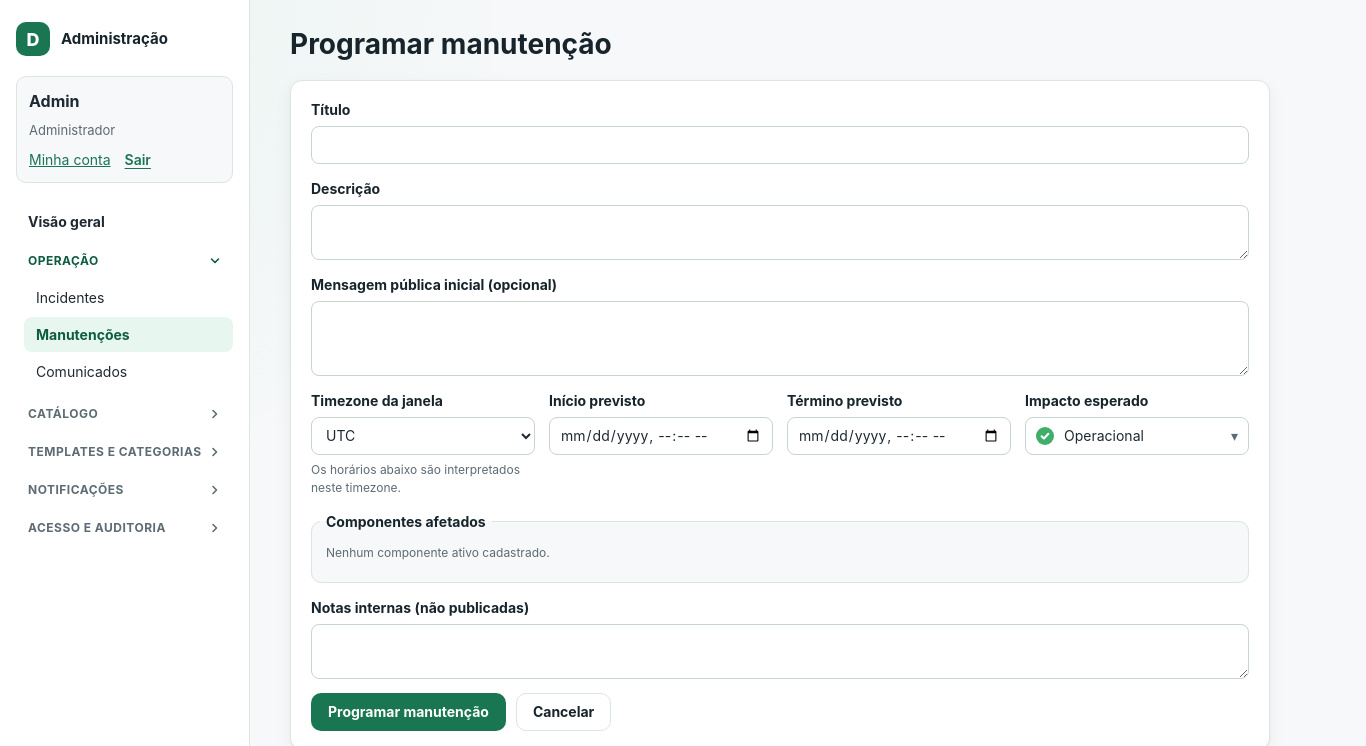
Test: admin area › schedules a maintenance sending local time plus an explicit timezone
This screenshot has width=1366, height=746.
In the field labelled "Título": (780, 145) [311,126,1249,164], type "Atualização do banco"
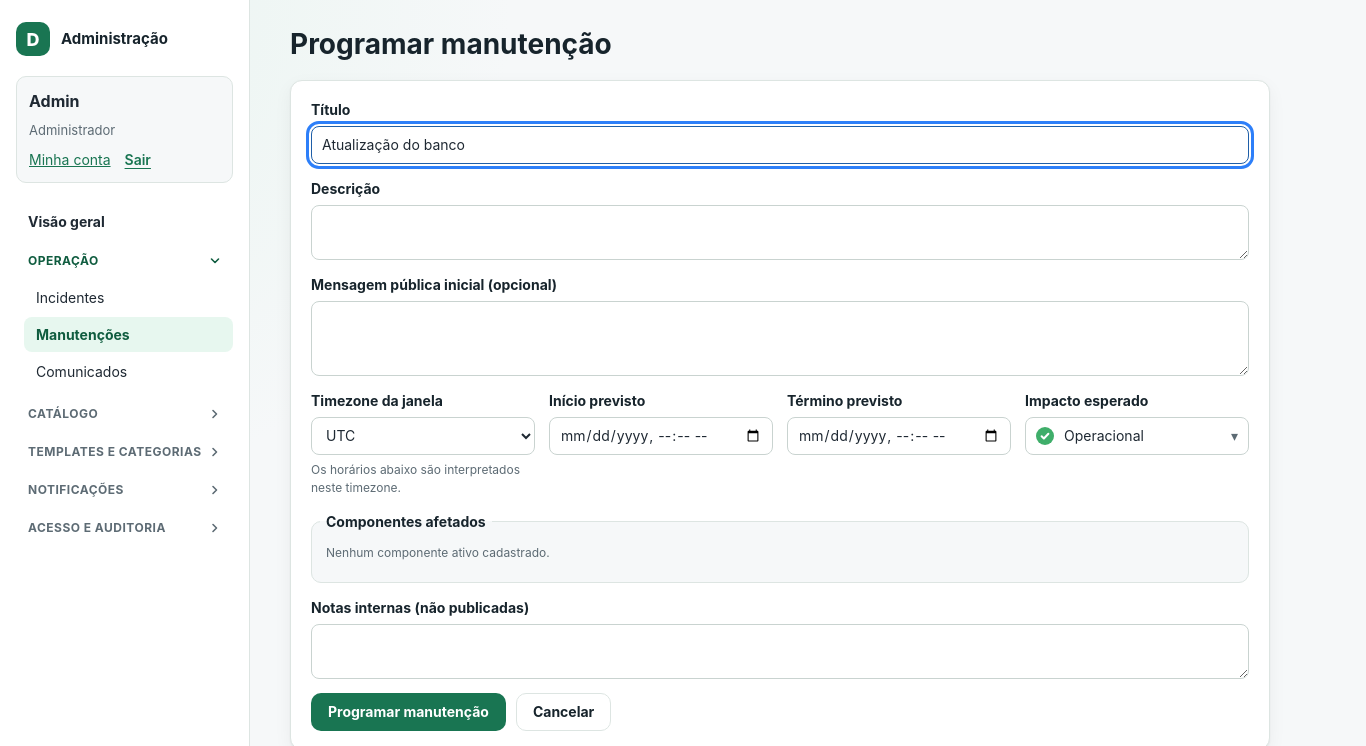
Select "America/Sao_Paulo" in the dropdown labelled "Timezone da janela": (423, 436) [311,417,535,455]
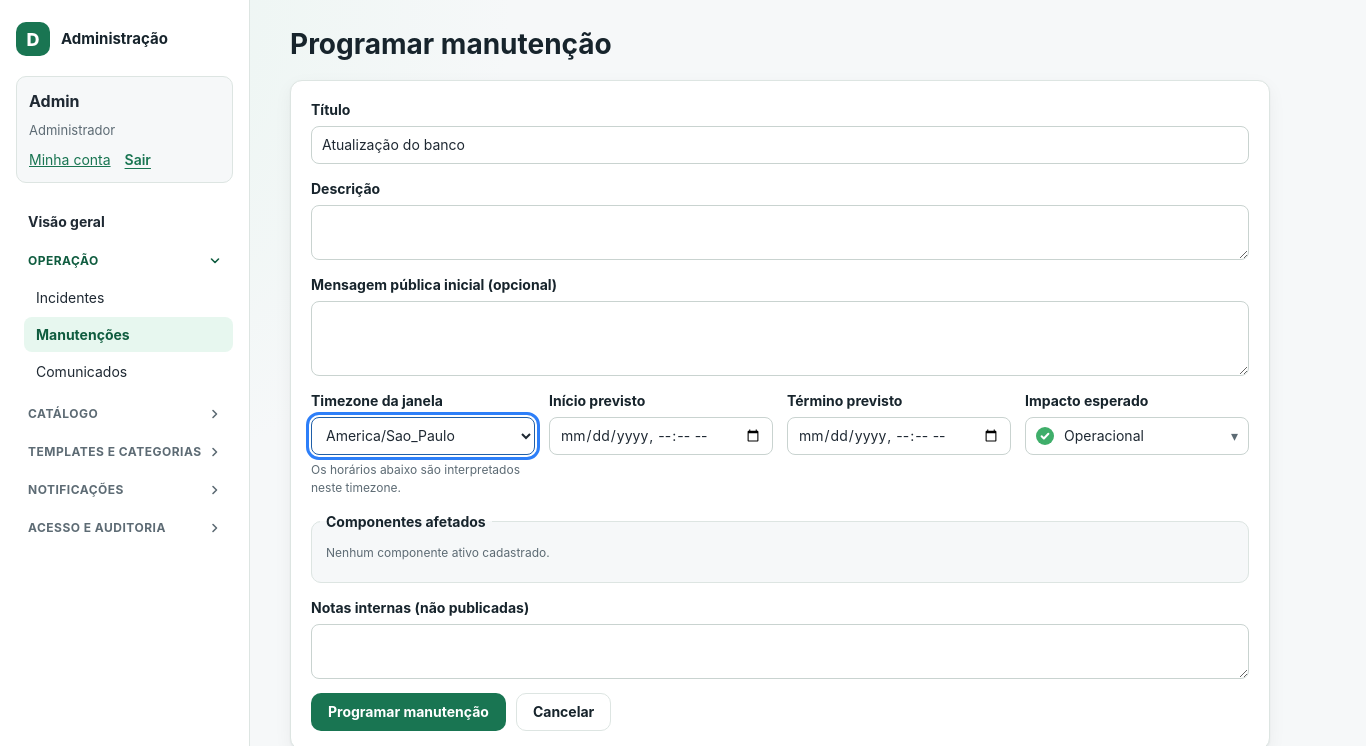
In the field labelled "Início previsto": (661, 436) [549,417,773,455], type "2030-01-10T02:00"
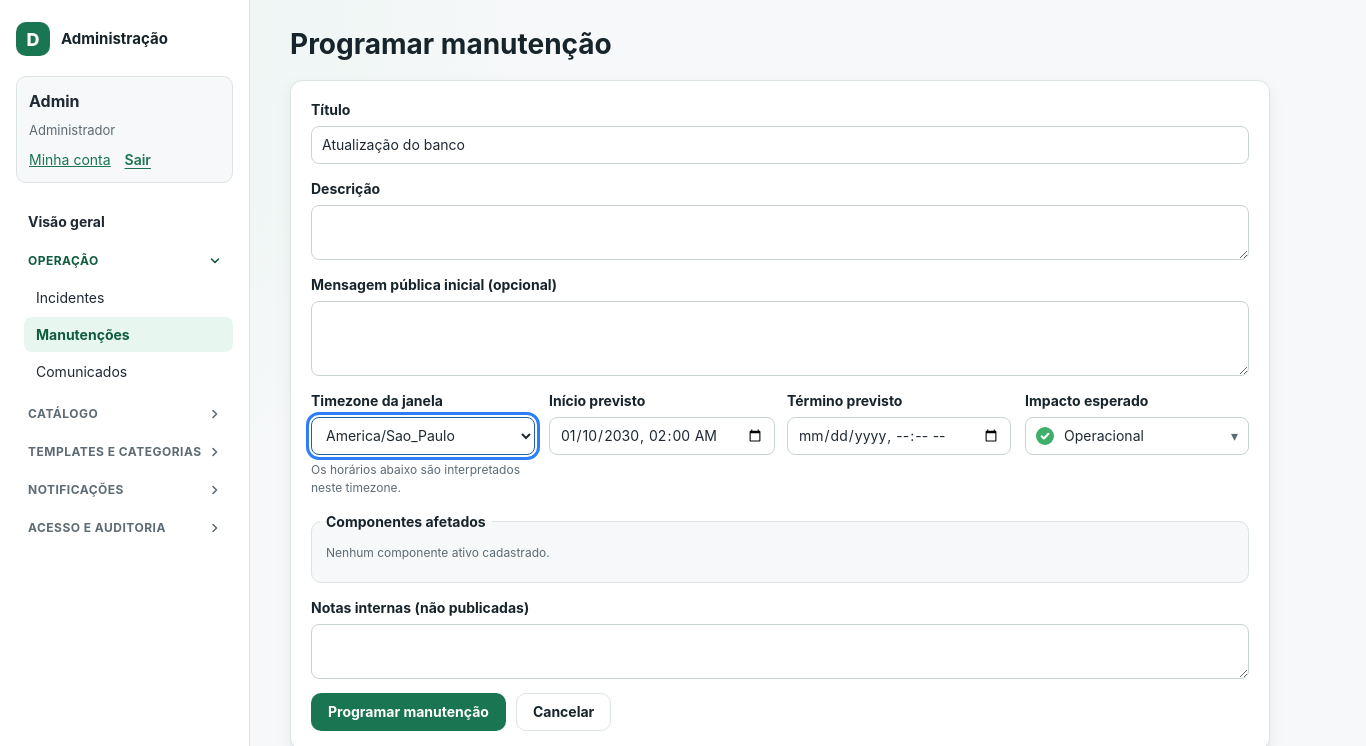
In the field labelled "Término previsto": (899, 436) [787,417,1011,455], type "2030-01-10T04:00"
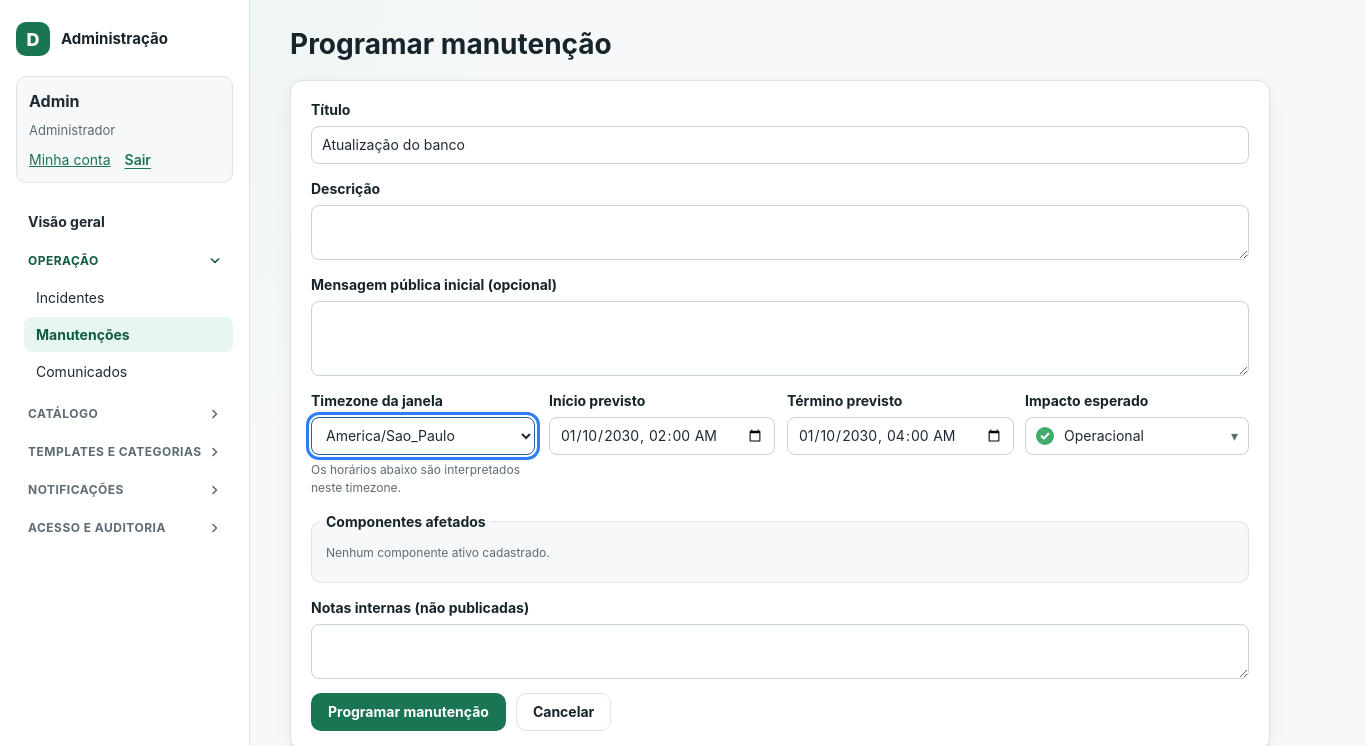
Click the button "Programar manutenção": (408, 712) [311,693,506,731]
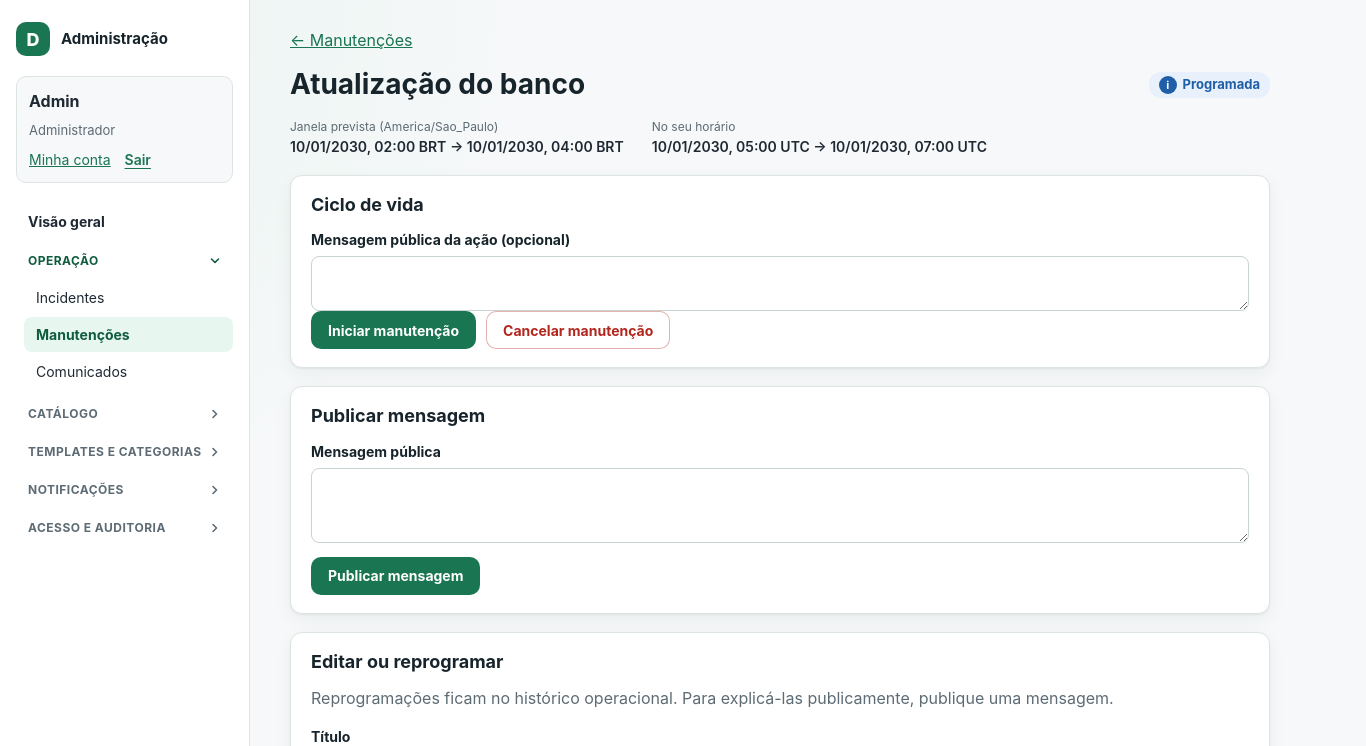
Result: the heading "Atualização do banco" is shown at [290,68,585,102]
